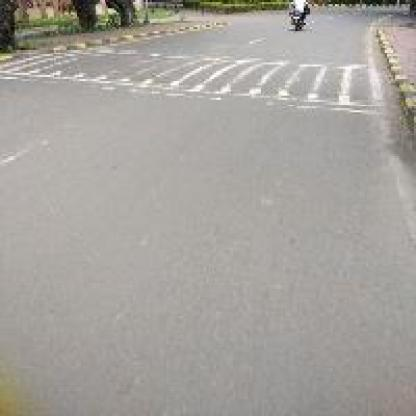Speed Bump: (0, 42, 387, 116)
